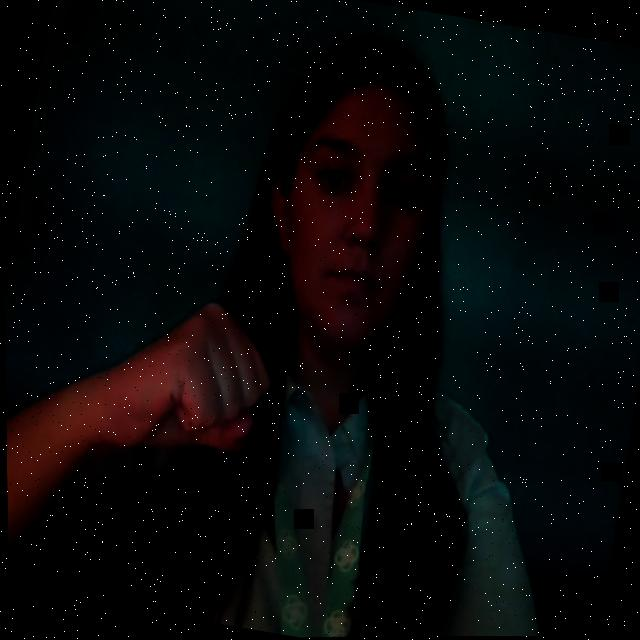Rock: (108, 281, 294, 475)
